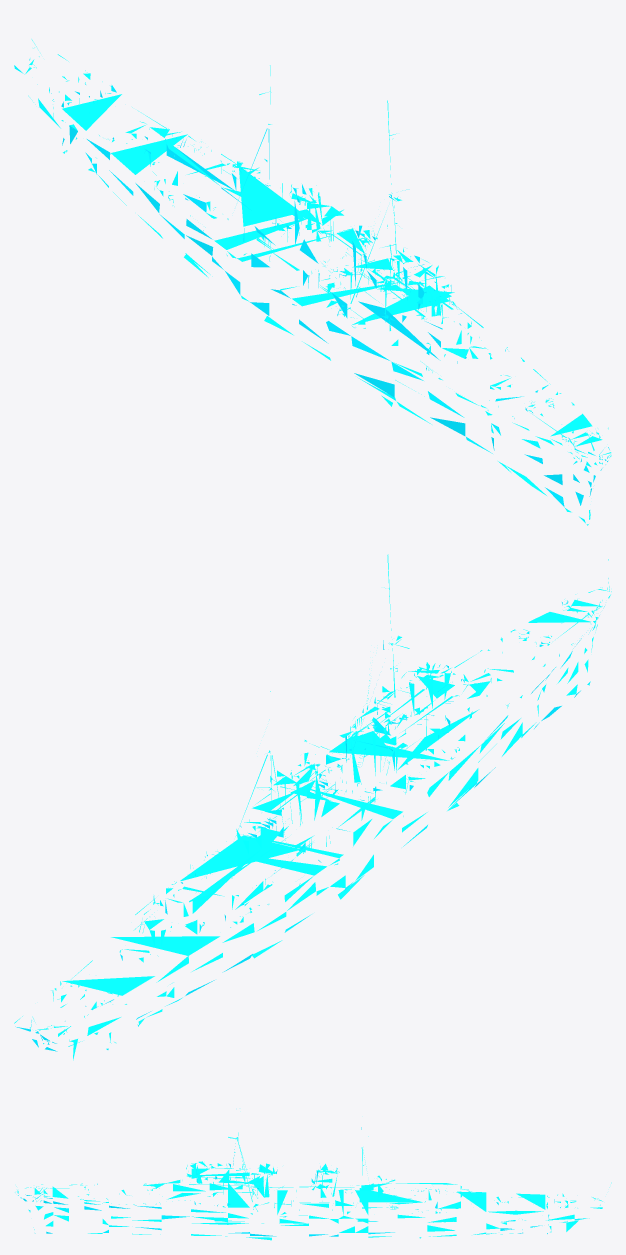
The model's file is Wiesbaden.glb.
3 views of the same model, one above another, from view 1: azimuth 30°, elevation 25°; view 2: azimuth 150°, elevation 25°; view 3: azimuth 270°, elevation 25° (orthographic). The views are drawn at different scales.
Size of the model in its own units: 1.32 by 3.18 by 12.02.
